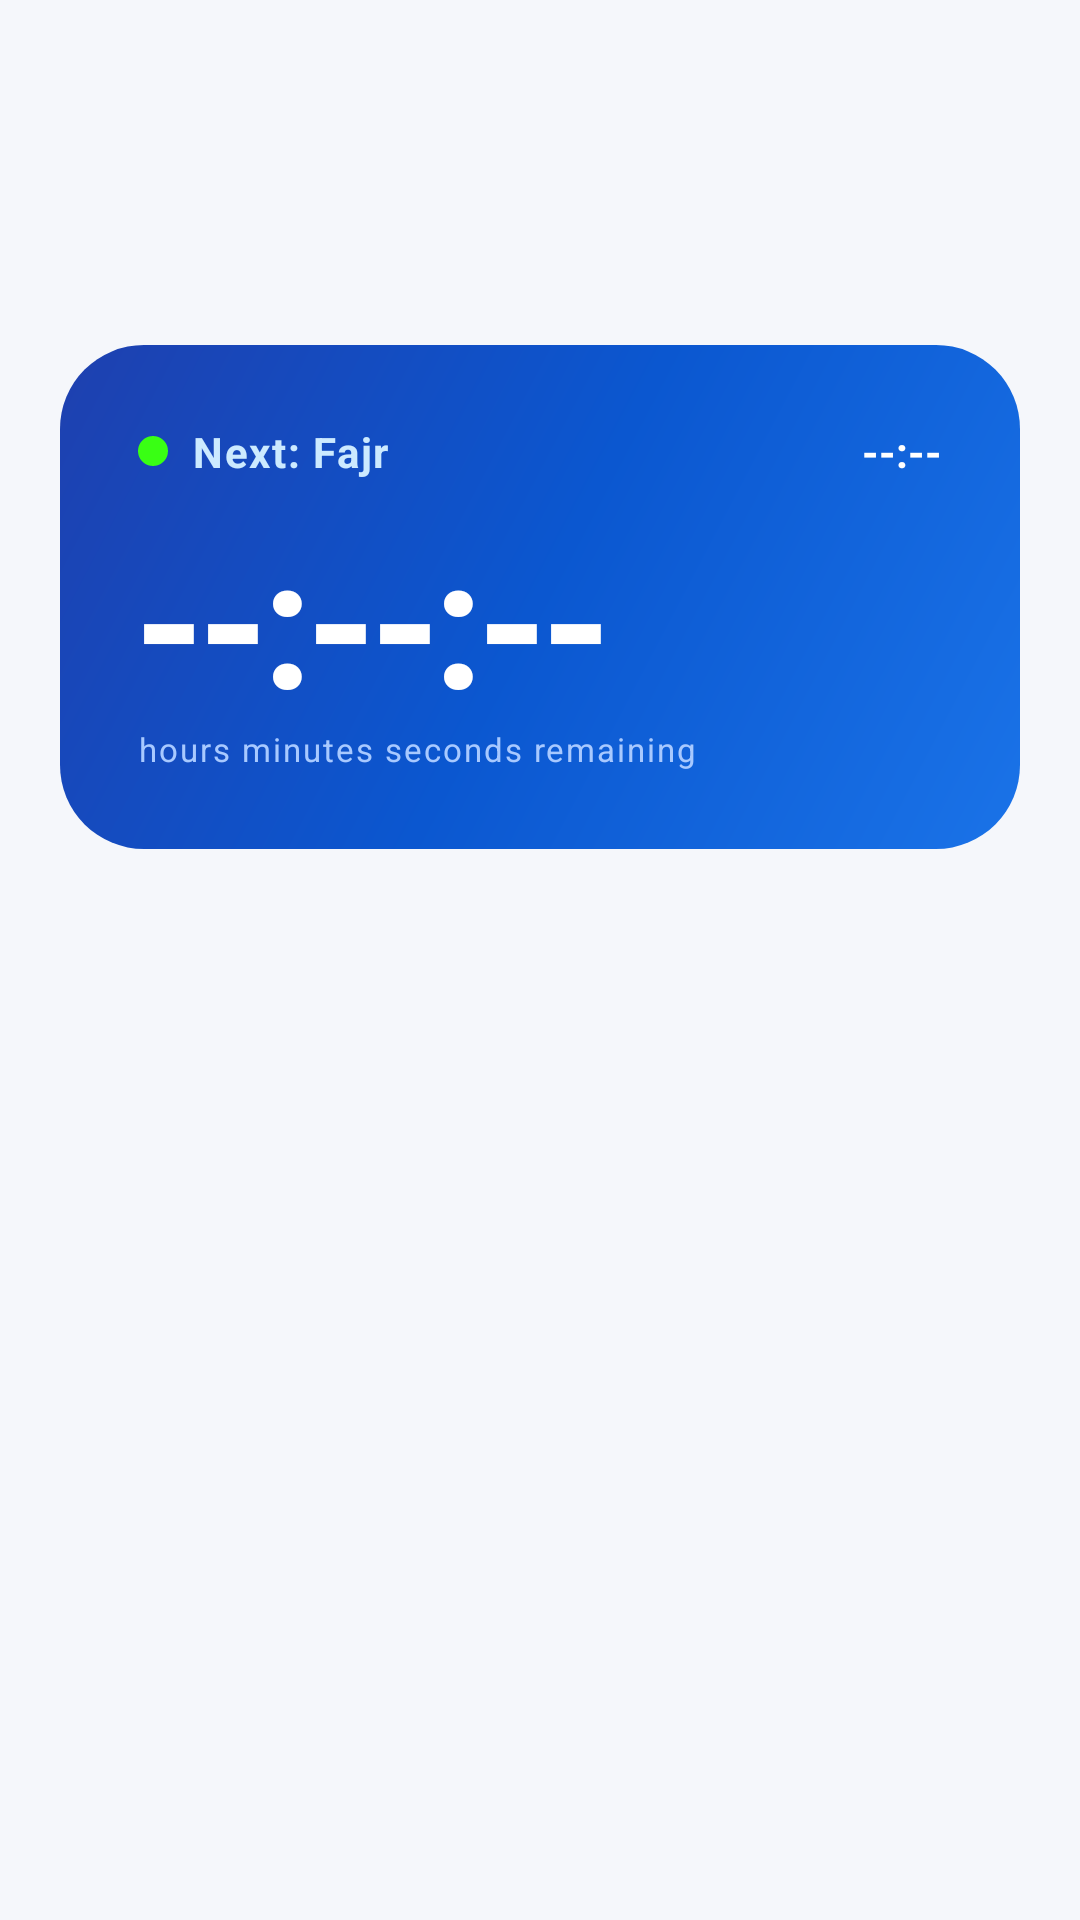

Named icons in this screenshot (1080px×1920px) and their bounding boxes, (x1, y1, x2, y2):
dot neon: (138, 436, 168, 466)
